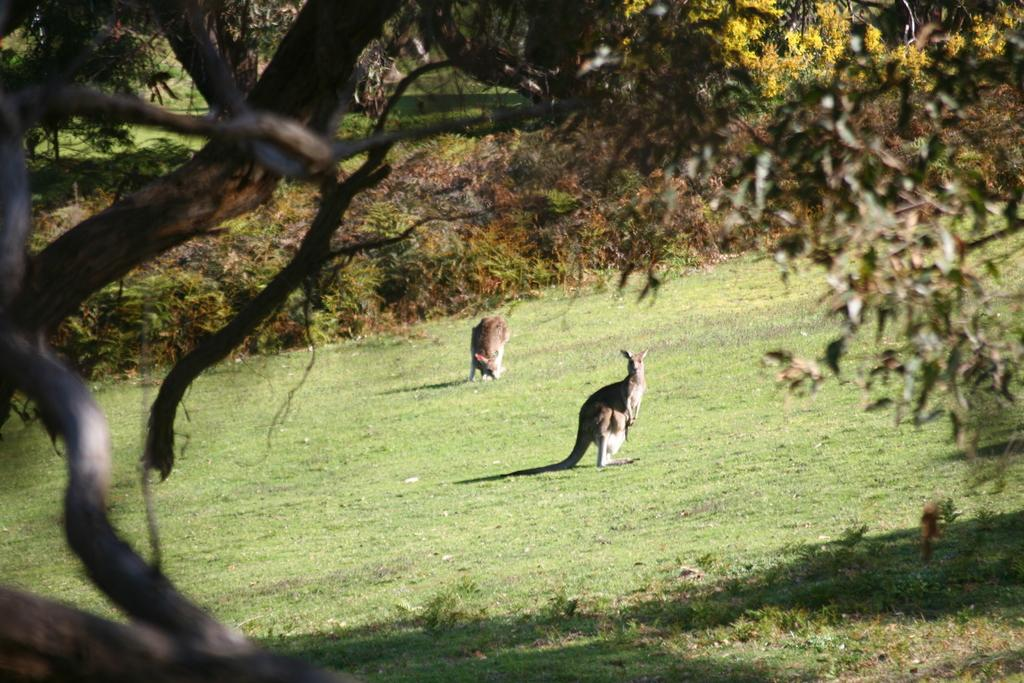kangaroo: (452, 346, 650, 482), (464, 318, 506, 378)
